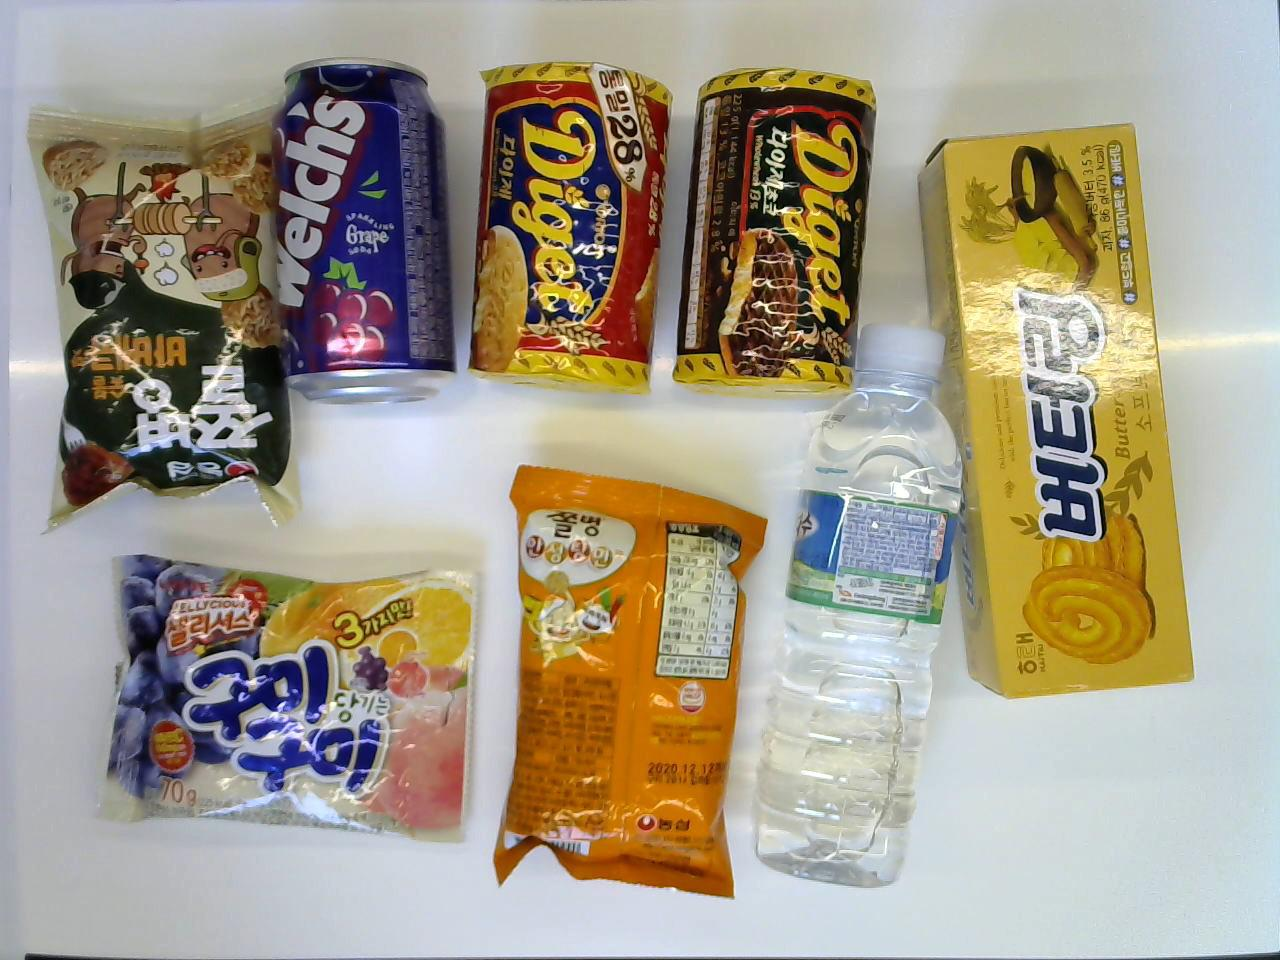buttering: (910, 117, 1200, 697)
diget_choco: (673, 56, 879, 402)
diget_ori: (467, 56, 677, 402)
gumi_gumi: (85, 551, 485, 843)
jjolbyung_noodle: (486, 455, 772, 907)
jjolbyung_ori: (22, 100, 311, 535)
samdasu: (749, 319, 970, 888)
welchs: (264, 49, 462, 412)
